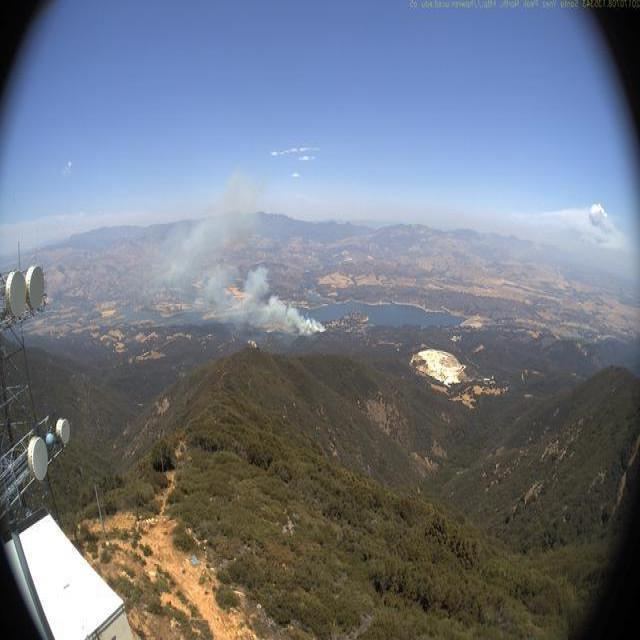Smoke: (150, 168, 331, 338)
